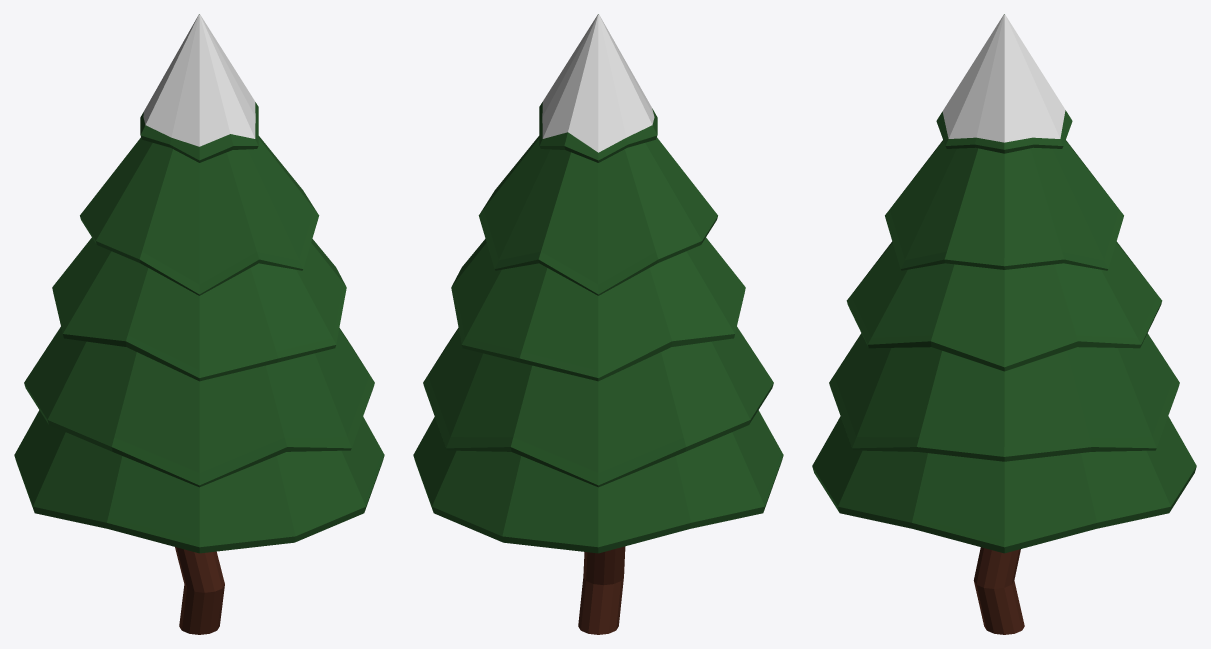
The model's file is елка_2.fbx.
The picture shows the model from 3 angles, left to right: view 1: azimuth 30°, elevation 25°; view 2: azimuth 150°, elevation 25°; view 3: azimuth 270°, elevation 25°; orthographic projection.
Visible parts, largest first — view 1: елка_1.002; view 2: елка_1.002; view 3: елка_1.002.
Part boxes in pixels (x1,y1,x2,y2): елка_1.002: (14,14,384,634); елка_1.002: (413,14,783,634); елка_1.002: (812,14,1196,634).
Bounding box in the file's own units: 169 × 297 × 169.
